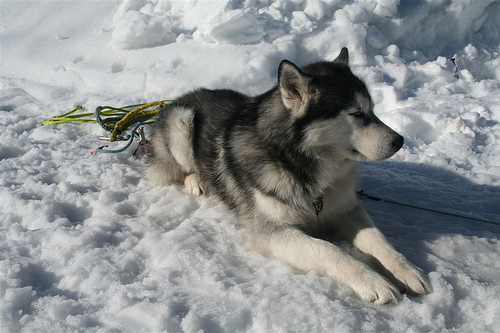dog: (138, 45, 433, 312)
